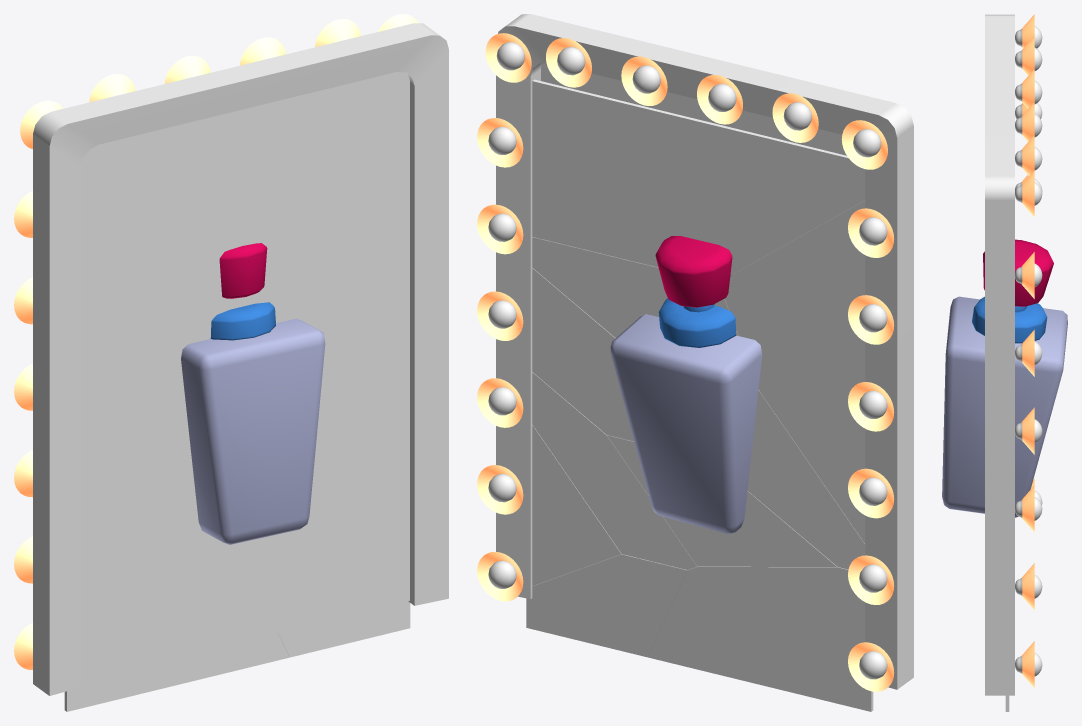
Rendered from Gate_Perfume.fbx.
The picture shows the model from 3 angles, left to right: view 1: azimuth 30°, elevation 25°; view 2: azimuth 150°, elevation 25°; view 3: azimuth 270°, elevation 25°; orthographic projection. The views are drawn at different scales.
Visible parts, largest first — view 1: lockdoor_glass, Lipstick_Door, parfume1govde, Lamp_light, locked_door_cell.003, locked_door_cell.001, parfume1kapak; view 2: Lipstick_Door, locked_door_cell.005, parfume1govde, locked_door_cell.007, locked_door_cell.003, Lamp_light, Lamp, locked_door_cell.001, locked_door_cell, locked_door_cell.002, locked_door_cell.009, locked_door_cell.008 (+4 smaller); view 3: Lipstick_Door, parfume1govde, Lamp_light, Lamp, parfume1kapak.
Boxes of the visible parts, bbox=[...] form: lockdoor_glass: bbox=[81, 72, 409, 680]; Lipstick_Door: bbox=[33, 23, 448, 695]; parfume1govde: bbox=[181, 302, 325, 544]; Lamp_light: bbox=[14, 14, 418, 669]; locked_door_cell.003: bbox=[64, 633, 289, 711]; locked_door_cell.001: bbox=[278, 601, 410, 657]; parfume1kapak: bbox=[219, 243, 267, 298]; Lipstick_Door: bbox=[496, 14, 913, 689]; locked_door_cell.005: bbox=[532, 79, 865, 275]; parfume1govde: bbox=[610, 298, 762, 533]; locked_door_cell.007: bbox=[724, 200, 865, 543]; locked_door_cell.003: bbox=[648, 566, 873, 711]; Lamp_light: bbox=[477, 33, 894, 691]; Lamp: bbox=[488, 42, 887, 679]; locked_door_cell.001: bbox=[526, 554, 687, 657]; locked_door_cell: bbox=[532, 372, 696, 569]; locked_door_cell.002: bbox=[532, 268, 633, 441]; locked_door_cell.009: bbox=[747, 390, 865, 569]; locked_door_cell.008: bbox=[532, 237, 758, 390]; Lipstick_Door: bbox=[985, 14, 1014, 695]; parfume1govde: bbox=[942, 296, 1067, 517]; Lamp_light: bbox=[1022, 14, 1034, 688]; Lamp: bbox=[1015, 26, 1042, 676]; parfume1kapak: bbox=[983, 239, 1053, 306].
Bounding box in the file's own units: 3.21 × 4.51 × 0.9344.
